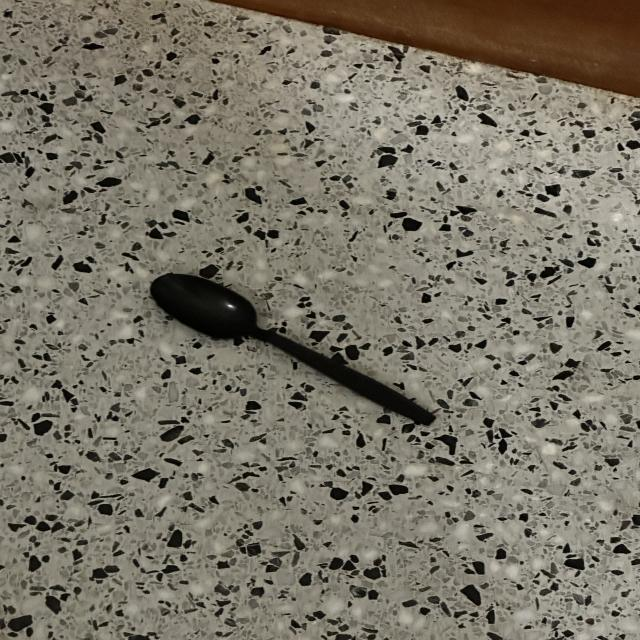spoon: (125, 238, 470, 486)
